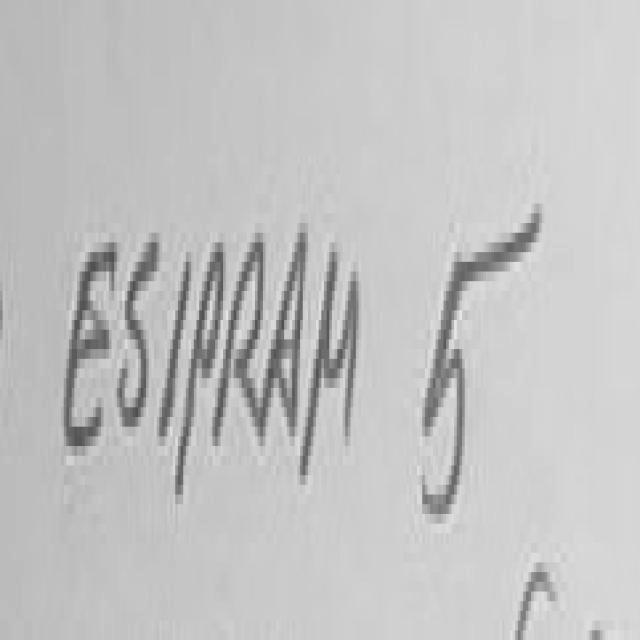5: (425, 213, 542, 514)
A: (260, 233, 308, 436)
E: (64, 242, 117, 446)
I: (159, 262, 191, 436)
M: (300, 252, 361, 470)
P: (175, 242, 223, 495)
R: (212, 233, 266, 446)
S: (120, 242, 159, 427)
